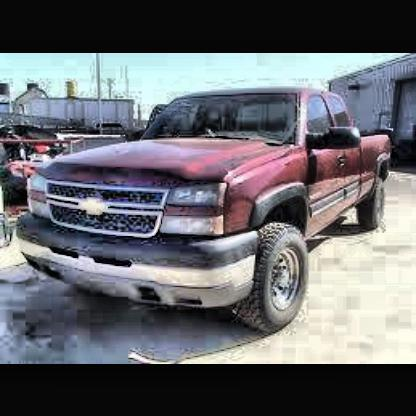Chevrolet Silverado 1500 Classic Extended Cab 2007: (20, 90, 394, 335)
